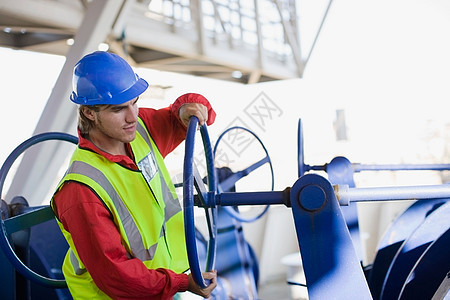safetyhat: (44, 44, 200, 300)
